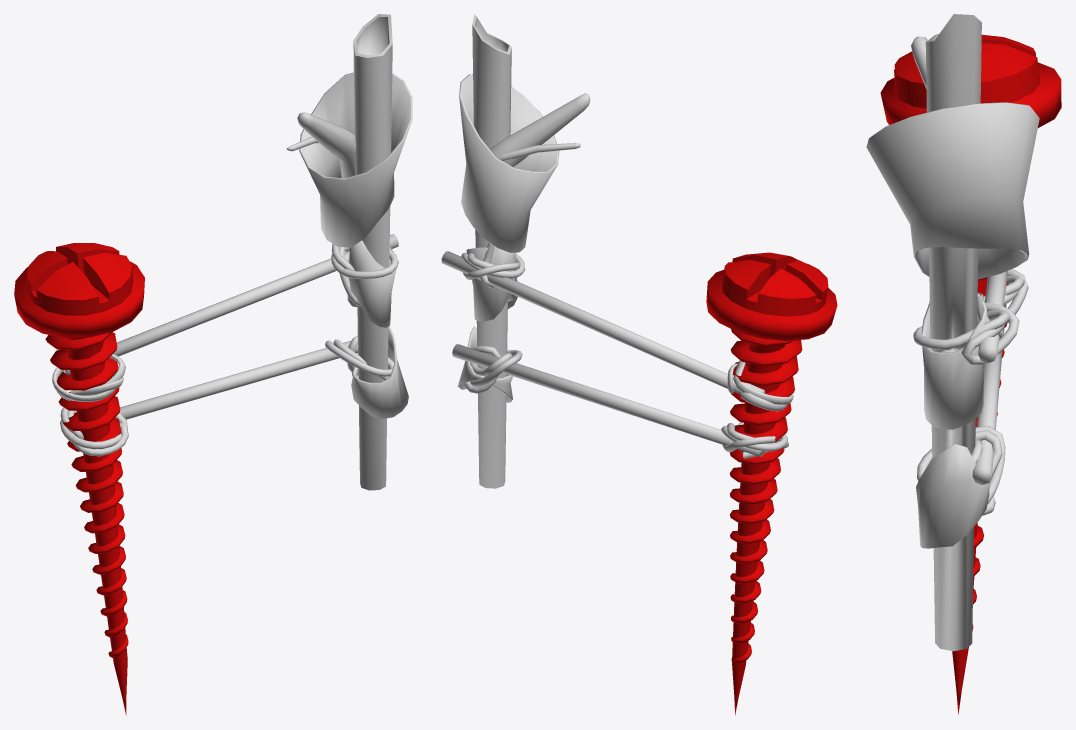
The model's file is WeaponRack.fbx.
3 renders of one model, left to right at view 1: azimuth 30°, elevation 25°; view 2: azimuth 150°, elevation 25°; view 3: azimuth 270°, elevation 25°, orthographic. The views are drawn at different scales.
Visible parts, largest first — view 1: Circle.002; view 2: Circle.002; view 3: Circle.002.
Part boxes in pixels (x1=…): Circle.002: x1=14, y1=14, x2=412, y2=715; Circle.002: x1=441, y1=14, x2=837, y2=715; Circle.002: x1=866, y1=14, x2=1061, y2=714.
Size of the model in its own units: 293 by 471 by 94.75.
